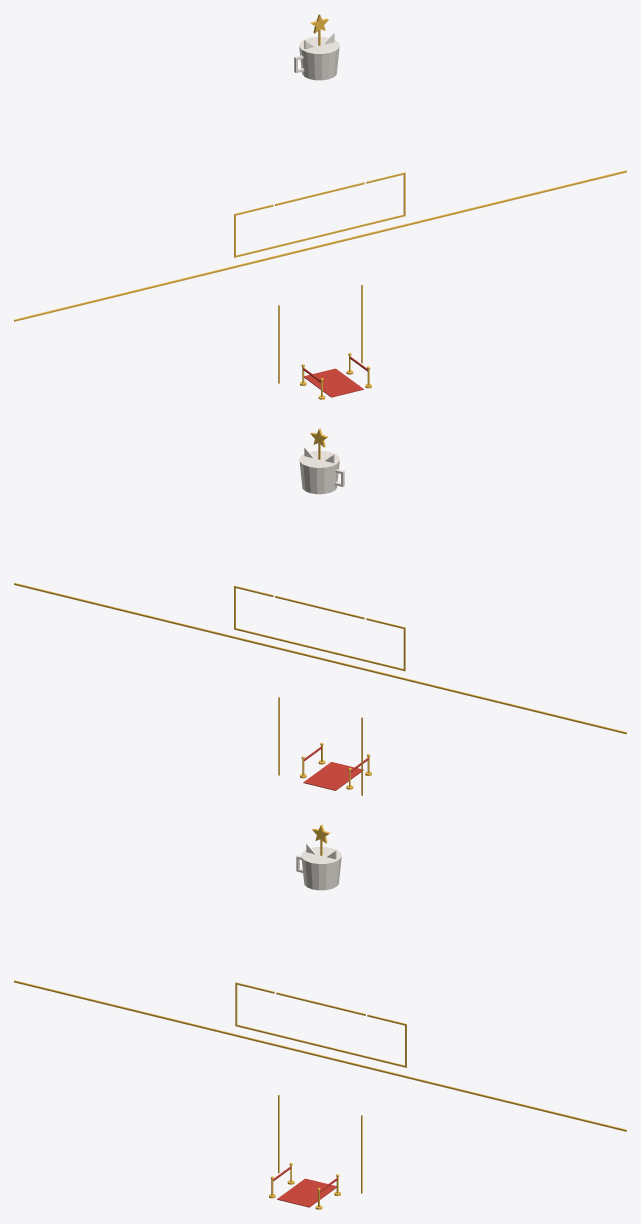
The model's file is CatCafe_Plot_Tier5_60x46.glb.
3 views of the same model, one above another, from view 1: azimuth 30°, elevation 25°; view 2: azimuth 150°, elevation 25°; view 3: azimuth 330°, elevation 25° (orthographic).
Parts seen in each view (by area): view 1: CatCafe_Plot_Tier5_60x46; view 2: CatCafe_Plot_Tier5_60x46; view 3: CatCafe_Plot_Tier5_60x46.
Boxes of the visible parts, box(x1,y1,x2,y2) form: CatCafe_Plot_Tier5_60x46: box(14, 14, 626, 399); CatCafe_Plot_Tier5_60x46: box(14, 428, 626, 795); CatCafe_Plot_Tier5_60x46: box(14, 824, 626, 1209).
Bounding box in the file's own units: 60.4 × 33.85 × 6.55.
Materials: 1 (1 with a texture image).
